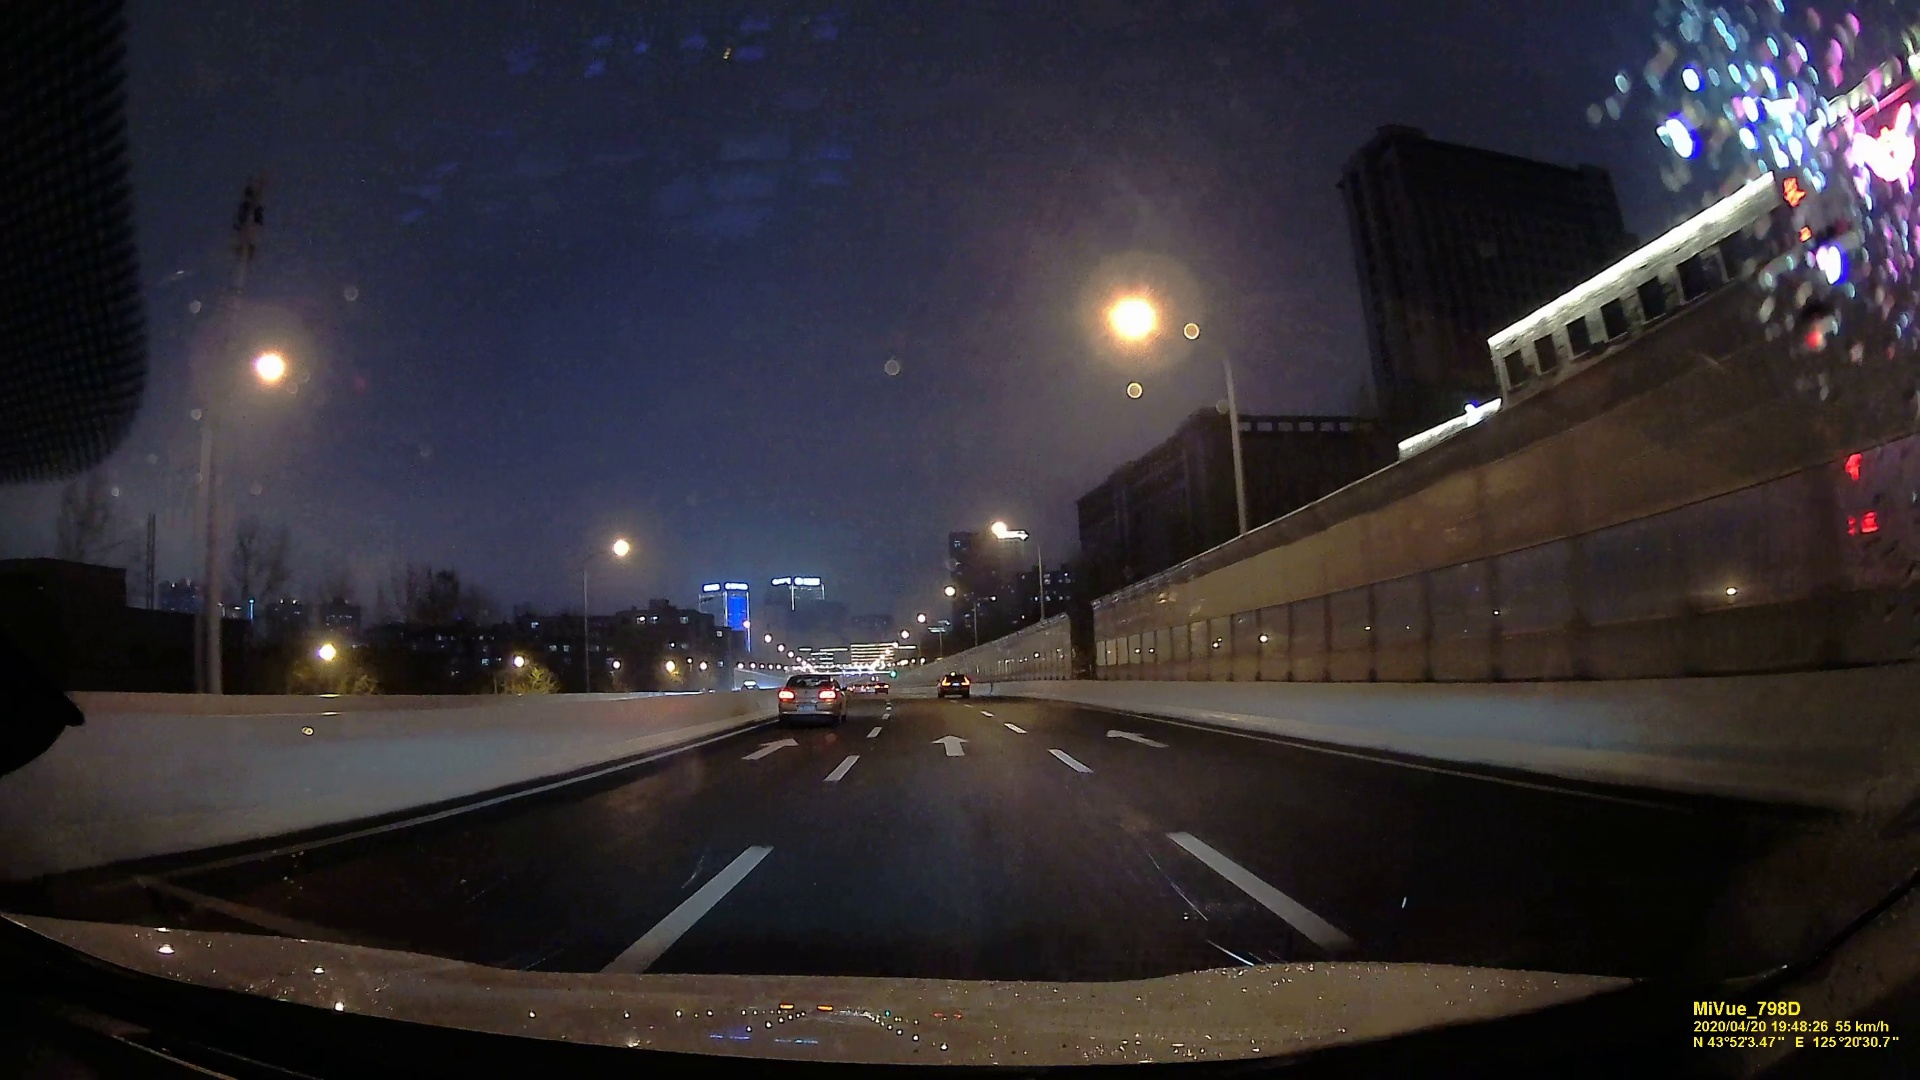vehicle: (775, 673, 847, 723), (936, 670, 971, 696)
